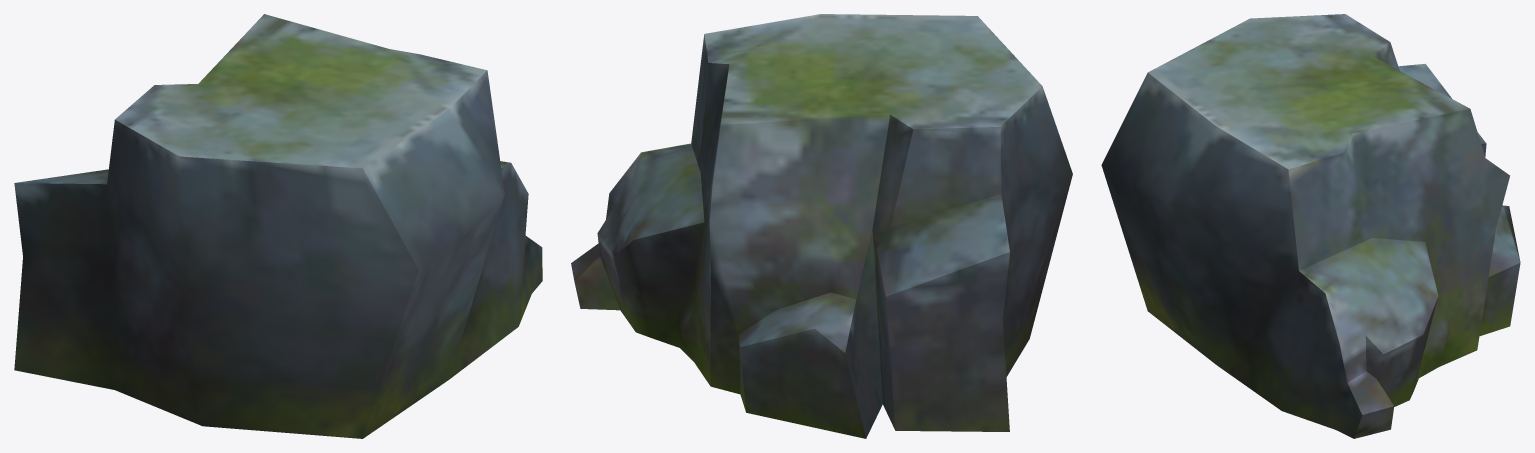
The model's file is SC_ZGFstone03.FBX.
3 views of the same model, side by side, from view 1: azimuth 30°, elevation 25°; view 2: azimuth 150°, elevation 25°; view 3: azimuth 270°, elevation 25° (orthographic). The views are drawn at different scales.
Parts seen in each view (by area): view 1: SC_ZGFstone03; view 2: SC_ZGFstone03; view 3: SC_ZGFstone03.
Part boxes in pixels (box(x1,y1,x2,y2)): SC_ZGFstone03: box(14, 14, 542, 438); SC_ZGFstone03: box(571, 14, 1072, 438); SC_ZGFstone03: box(1101, 14, 1520, 438).
Bounding box in the file's own units: 352 × 185 × 295.
